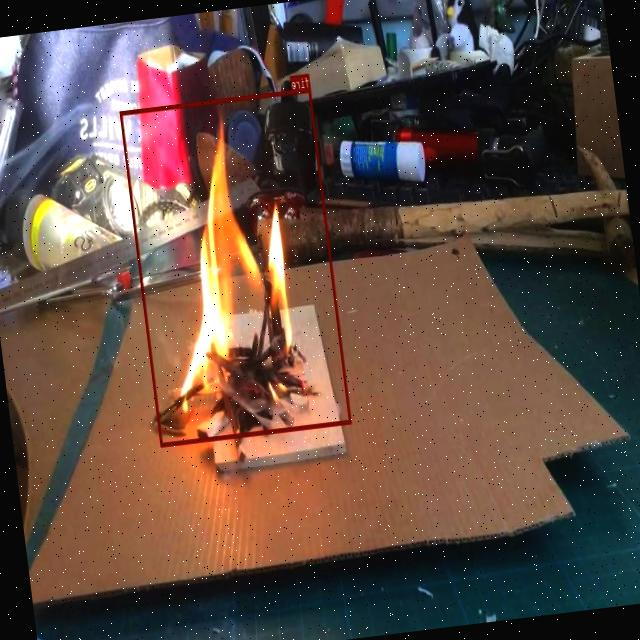fire: (120, 88, 352, 446)
